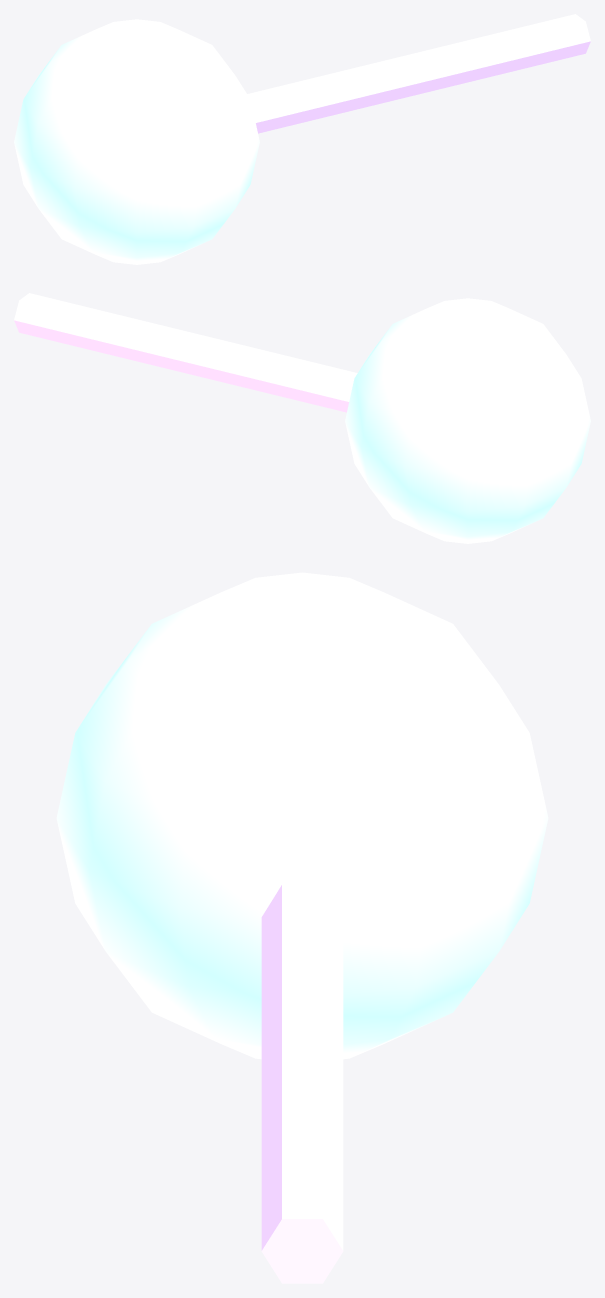
Rendered from lattice-cell.glb.
3 renders of one model, top to bottom at view 1: azimuth 30°, elevation 25°; view 2: azimuth 150°, elevation 25°; view 3: azimuth 270°, elevation 25°, orthographic. The views are drawn at different scales.
Parts seen in each view (by area): view 1: LatticeSite, LatticeBond; view 2: LatticeSite, LatticeBond; view 3: LatticeSite, LatticeBond.
Part boxes in pixels (left/top/right/bottom): LatticeSite: left=14, top=19, right=259, bottom=264; LatticeBond: left=247, top=14, right=590, bottom=133; LatticeSite: left=345, top=298, right=590, bottom=543; LatticeBond: left=14, top=293, right=357, bottom=412; LatticeSite: left=56, top=572, right=548, bottom=1059; LatticeBond: left=261, top=884, right=343, bottom=1283.
Size of the model in its own units: 0.62 by 0.24 by 0.24.
